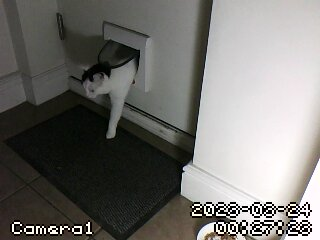bad: (70, 47, 150, 147)
